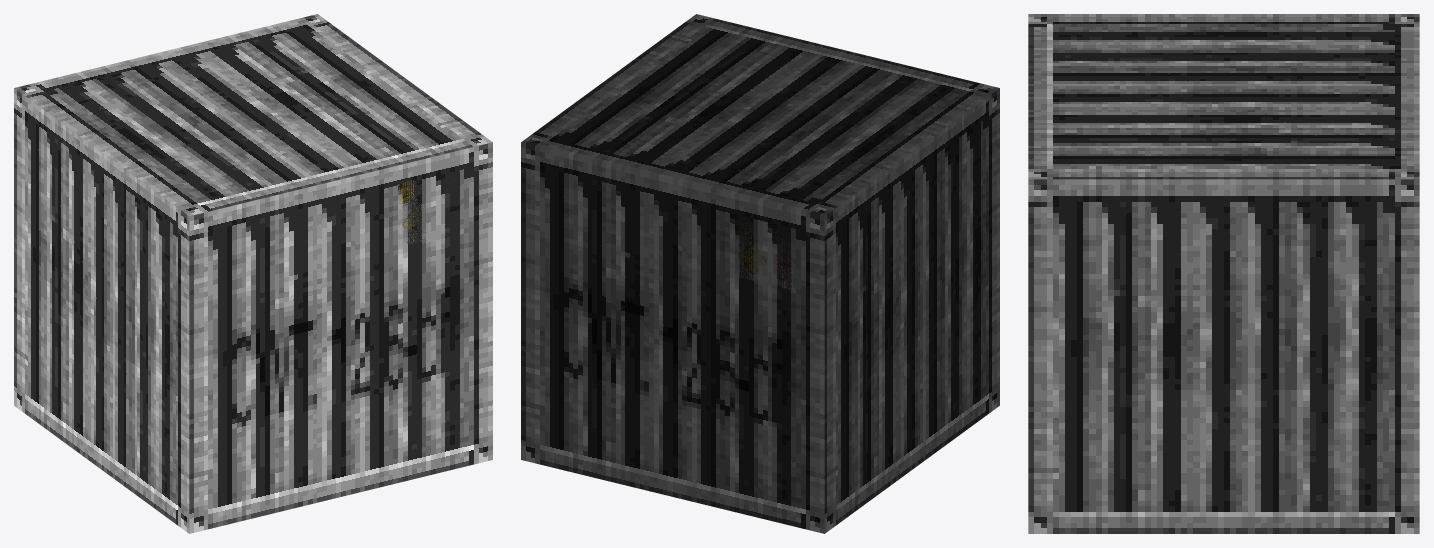
The model's file is Pmetal_crate1Z.obj.
3 renders of one model, left to right at view 1: azimuth 30°, elevation 25°; view 2: azimuth 150°, elevation 25°; view 3: azimuth 270°, elevation 25°, orthographic. The views are drawn at different scales.
Size of the model in its own units: 1166 by 1166 by 1166.
Materials: 3 (3 with a texture image).
